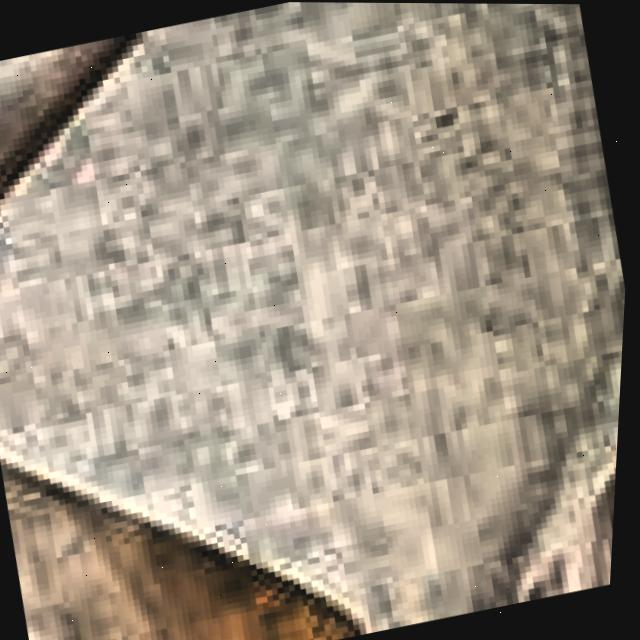paper: (0, 2, 628, 640)
